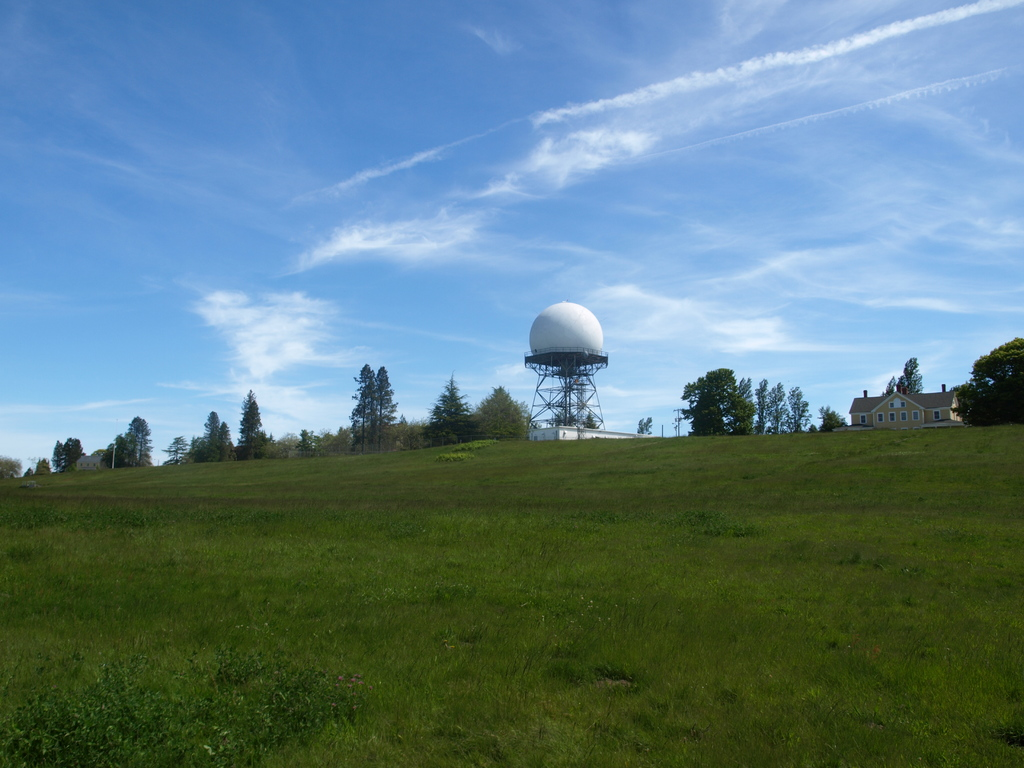Tree: (0, 360, 537, 475), (950, 332, 1023, 430), (680, 363, 755, 435), (752, 378, 771, 438), (770, 376, 790, 433), (790, 383, 814, 428), (816, 401, 847, 435), (899, 353, 923, 394), (734, 369, 754, 412), (551, 398, 582, 425), (883, 369, 904, 399), (632, 414, 654, 437), (579, 409, 600, 429)
